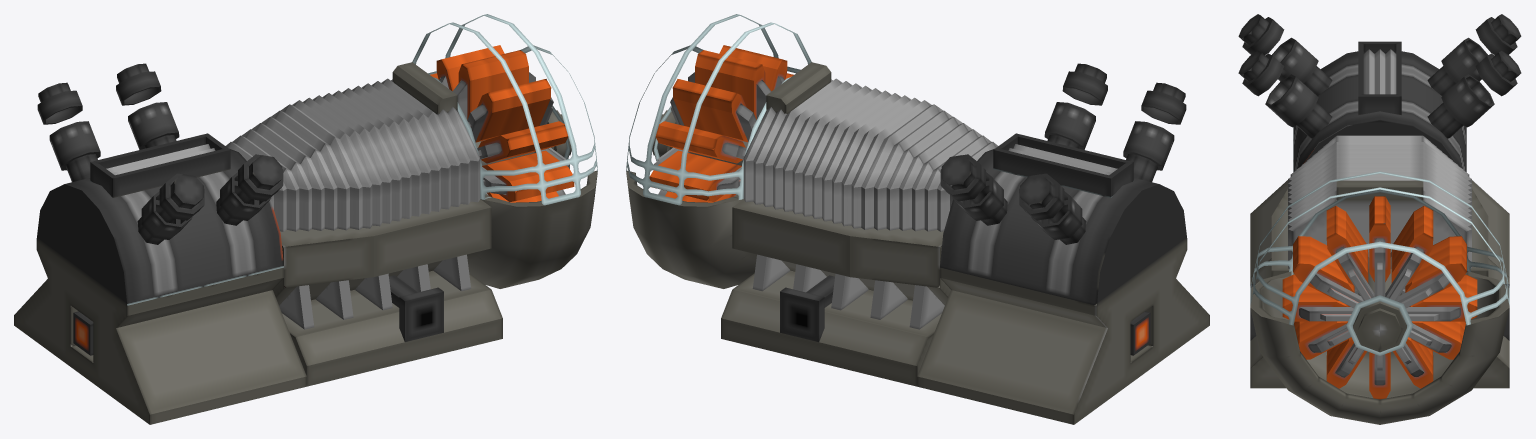
The model's file is radgen.obj.
3 renders of one model, left to right at view 1: azimuth 30°, elevation 25°; view 2: azimuth 150°, elevation 25°; view 3: azimuth 270°, elevation 25°, orthographic. The views are drawn at different scales.
Parts seen in each view (by area): view 1: Base, Rotor, Glass; view 2: Base, Rotor, Glass; view 3: Base, Rotor, Glass.
Part boxes in pixels (bbox=[...]): Base: bbox=[14, 62, 597, 424]; Rotor: bbox=[430, 45, 574, 202]; Glass: bbox=[412, 14, 597, 205]; Base: bbox=[626, 62, 1209, 424]; Rotor: bbox=[649, 45, 793, 202]; Glass: bbox=[626, 14, 811, 205]; Base: bbox=[1238, 14, 1521, 424]; Rotor: bbox=[1282, 196, 1477, 399]; Glass: bbox=[1250, 171, 1509, 355].
Size of the model in its own units: 6.12 by 3 by 3.27.
